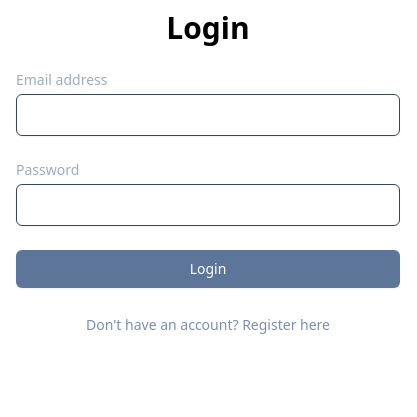
Login Component › displays error message on failed login
Step 1. Type "test@example.com" into the field labelled "Email address" → (208,115), box [16,94,400,136]
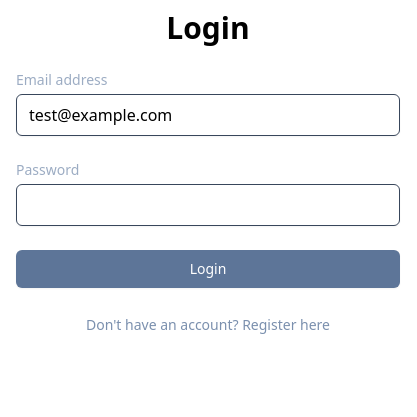
Step 2. Type "wrongpassword" into the password field labelled "Password" → (208,205), box [16,184,400,226]
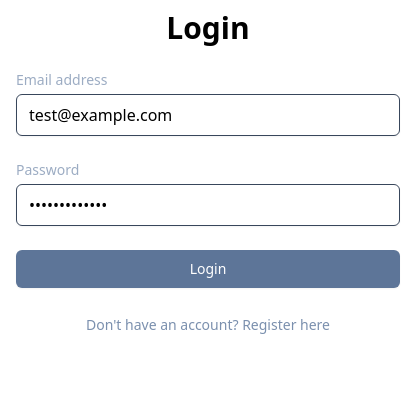
Step 3. Click the button "Login" → (208,269), box [16,250,400,288]
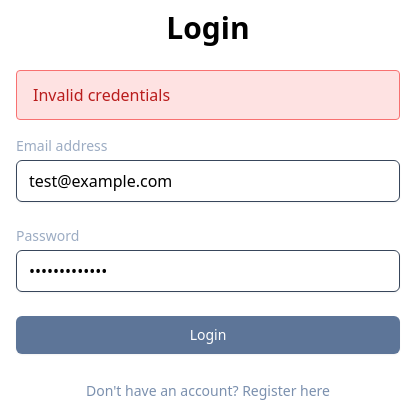
Check: the text "Invalid credentials" is shown, box [33,84,170,106]
